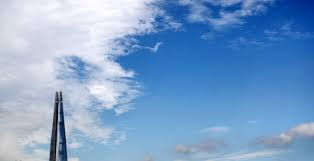sky: (1, 2, 314, 159)
